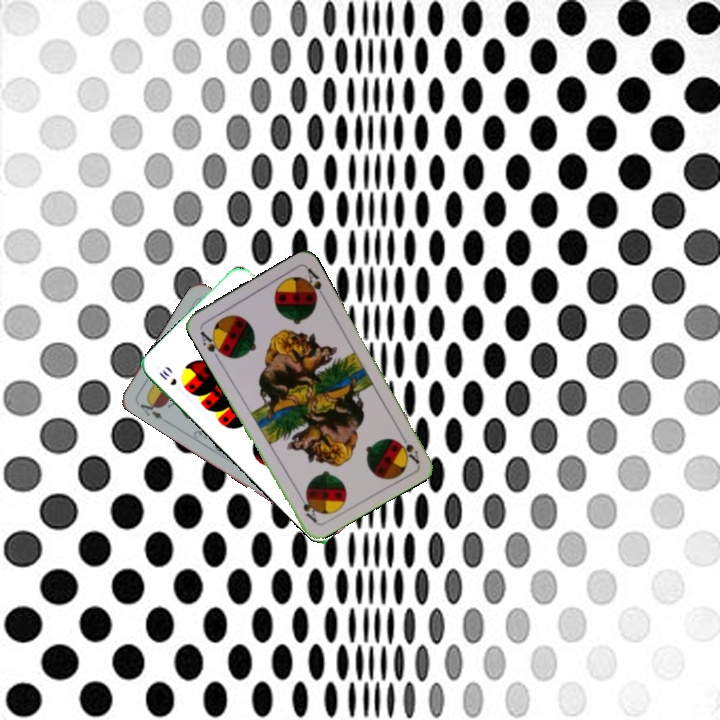EA: (136, 395, 165, 422)
S10: (155, 365, 179, 388)
SA: (196, 327, 228, 363), (394, 429, 422, 466)
